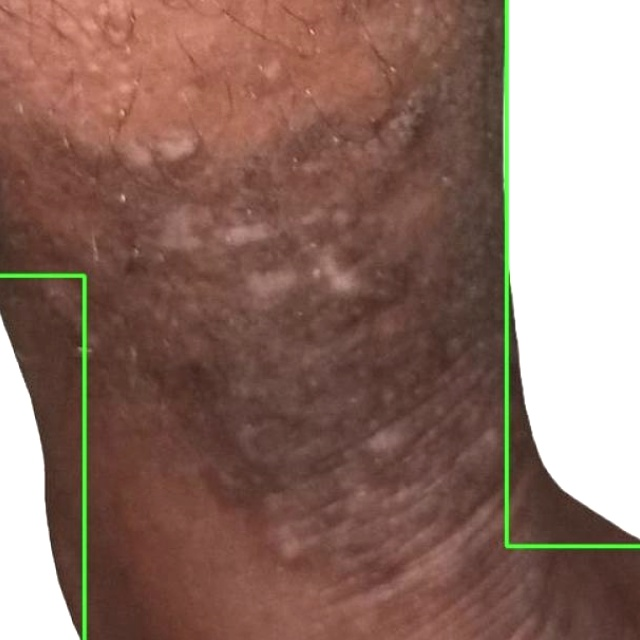Eczema: (505, 0, 639, 547), (0, 275, 84, 639)
